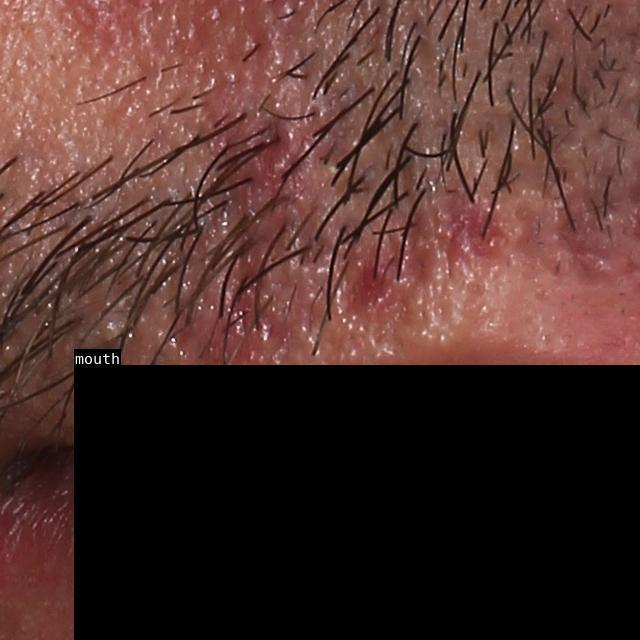atrophic_scar: (557, 181, 626, 281), (337, 255, 409, 324), (512, 195, 560, 267), (402, 197, 438, 292)
